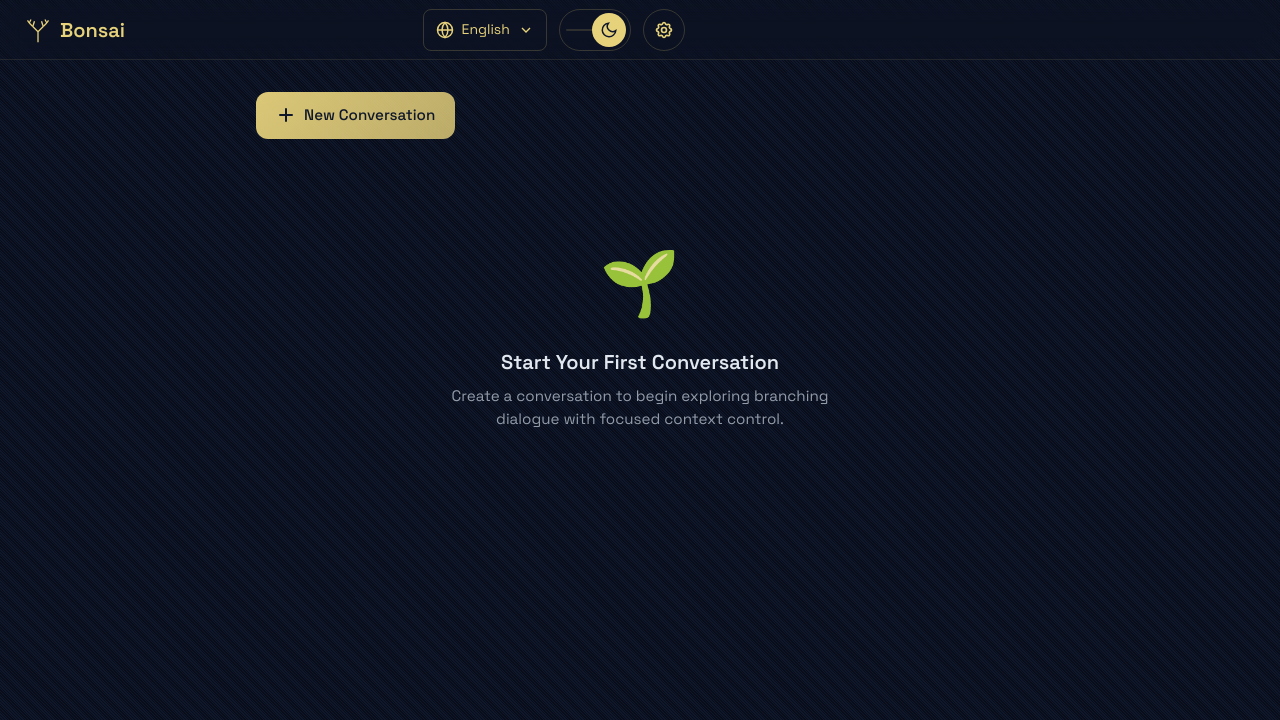
Test: HomeView › shows input field when new conversation button is clicked
Click the button with test id "new-conversation-btn" at [356, 115], box [256, 92, 455, 139]
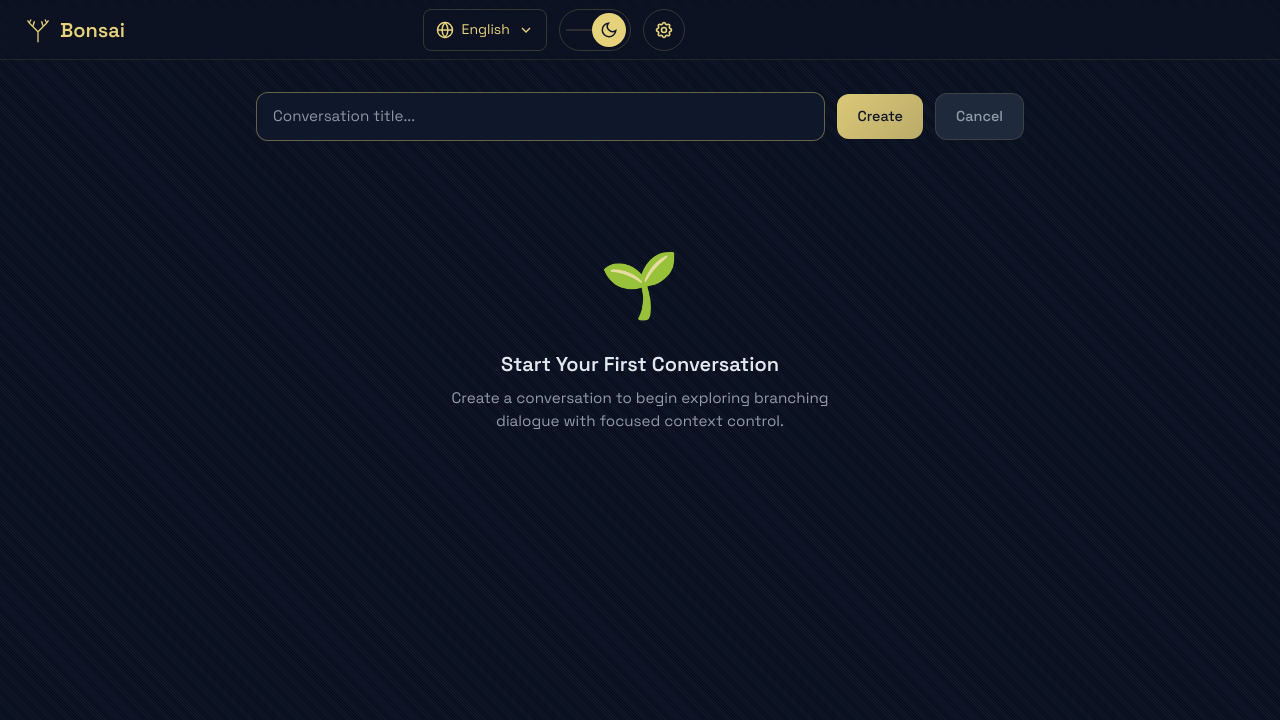
Now the field with test id "new-conversation-input" is shown, box [256, 92, 826, 141]
Now the button with test id "create-conversation-btn" is shown, box [838, 94, 923, 139]
